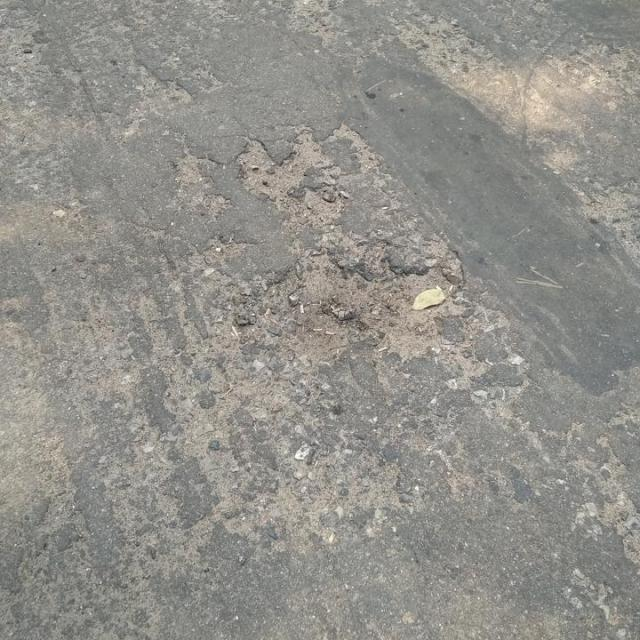pothole: (252, 242, 474, 368), (234, 125, 376, 228)
